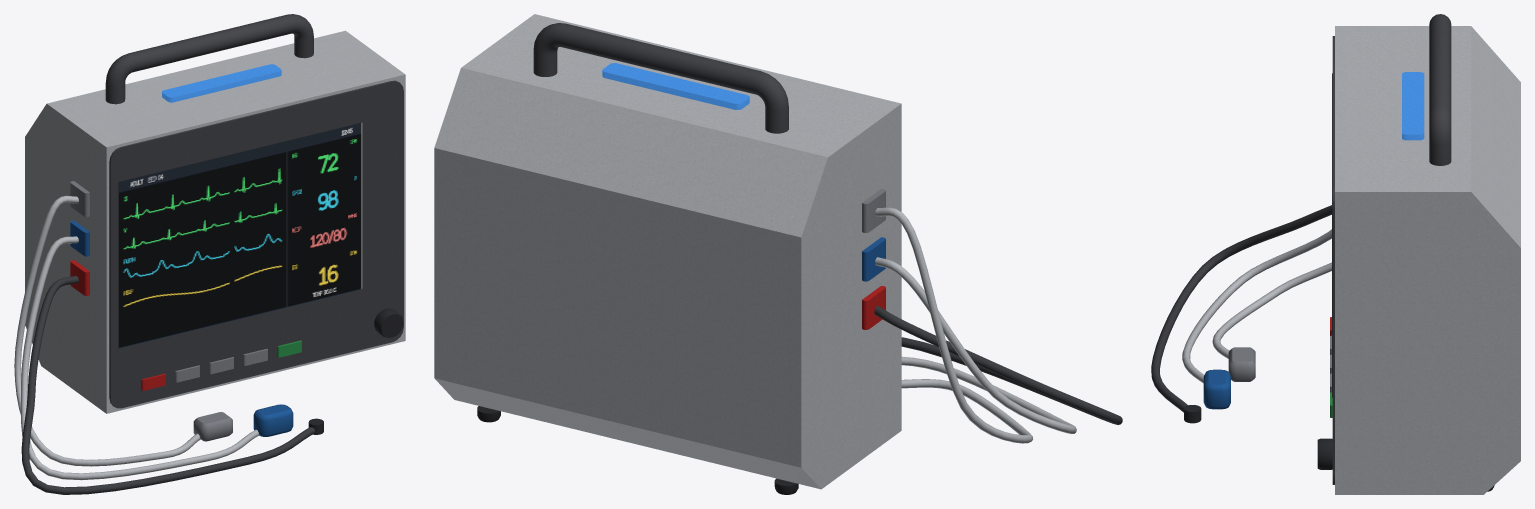
Rendered from patient-monitor.glb.
3 views of the same model, side by side, from view 1: azimuth 30°, elevation 25°; view 2: azimuth 150°, elevation 25°; view 3: azimuth 270°, elevation 25° (orthographic). The views are drawn at different scales.
Visible parts, largest first — view 1: Display, Monitor housing, Front bezel, Patient cables, Carry handle, Sensors, Alarm light, Hard keys, Parameter ports, Rotary knob; view 2: Monitor housing, Patient cables, Carry handle, Alarm light, Parameter ports; view 3: Monitor housing, Patient cables, Carry handle, Sensors, Alarm light, Front bezel, Rotary knob.
Part boxes in pixels (x1=…): Display: x1=118, y1=122, x2=362, y2=348; Monitor housing: x1=25, y1=30, x2=405, y2=413; Front bezel: x1=109, y1=80, x2=403, y2=408; Patient cables: x1=14, y1=195, x2=315, y2=494; Carry handle: x1=105, y1=14, x2=313, y2=104; Sensors: x1=193, y1=404, x2=323, y2=441; Alarm light: x1=162, y1=64, x2=281, y2=102; Hard keys: x1=141, y1=340, x2=301, y2=390; Parameter ports: x1=70, y1=181, x2=89, y2=295; Rotary knob: x1=374, y1=308, x2=403, y2=337; Monitor housing: x1=434, y1=14, x2=901, y2=489; Patient cables: x1=874, y1=207, x2=1122, y2=443; Carry handle: x1=533, y1=23, x2=788, y2=133; Alarm light: x1=602, y1=63, x2=749, y2=109; Parameter ports: x1=862, y1=189, x2=885, y2=329; Monitor housing: x1=1335, y1=26, x2=1520, y2=494; Patient cables: x1=1151, y1=205, x2=1331, y2=412; Carry handle: x1=1429, y1=14, x2=1451, y2=165; Sensors: x1=1184, y1=347, x2=1255, y2=423; Alarm light: x1=1402, y1=72, x2=1424, y2=140; Front bezel: x1=1332, y1=36, x2=1334, y2=484; Rotary knob: x1=1317, y1=438, x2=1332, y2=469.
Size of the model in its own units: 0.4533 by 0.3252 by 0.2985.
12 materials, 12 textured.
